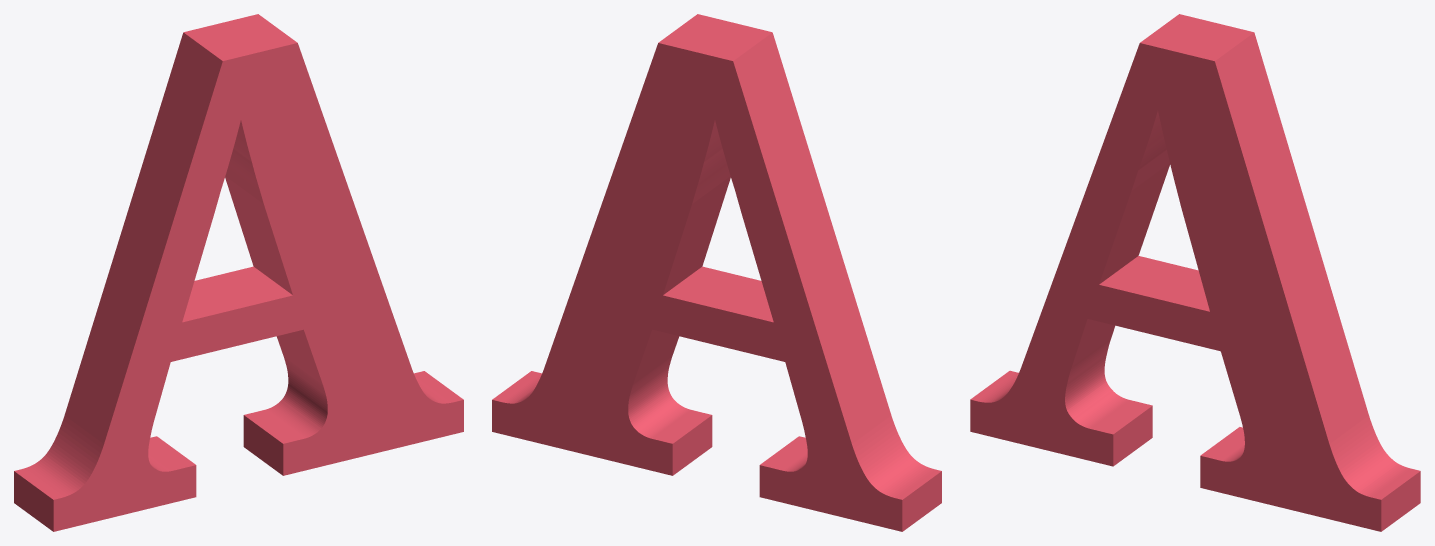
3 views of the same model, side by side, from view 1: azimuth 30°, elevation 25°; view 2: azimuth 150°, elevation 25°; view 3: azimuth 330°, elevation 25° (orthographic).
Parts seen in each view (by area): view 1: obj_0; view 2: obj_0; view 3: obj_0.
Boxes of the visible parts, left/top/right/bottom form: obj_0: left=14, top=14, right=463, bottom=531; obj_0: left=492, top=14, right=941, bottom=531; obj_0: left=970, top=14, right=1420, bottom=531.
Bounding box in the file's own units: 0.3 × 0.3 × 0.05.
